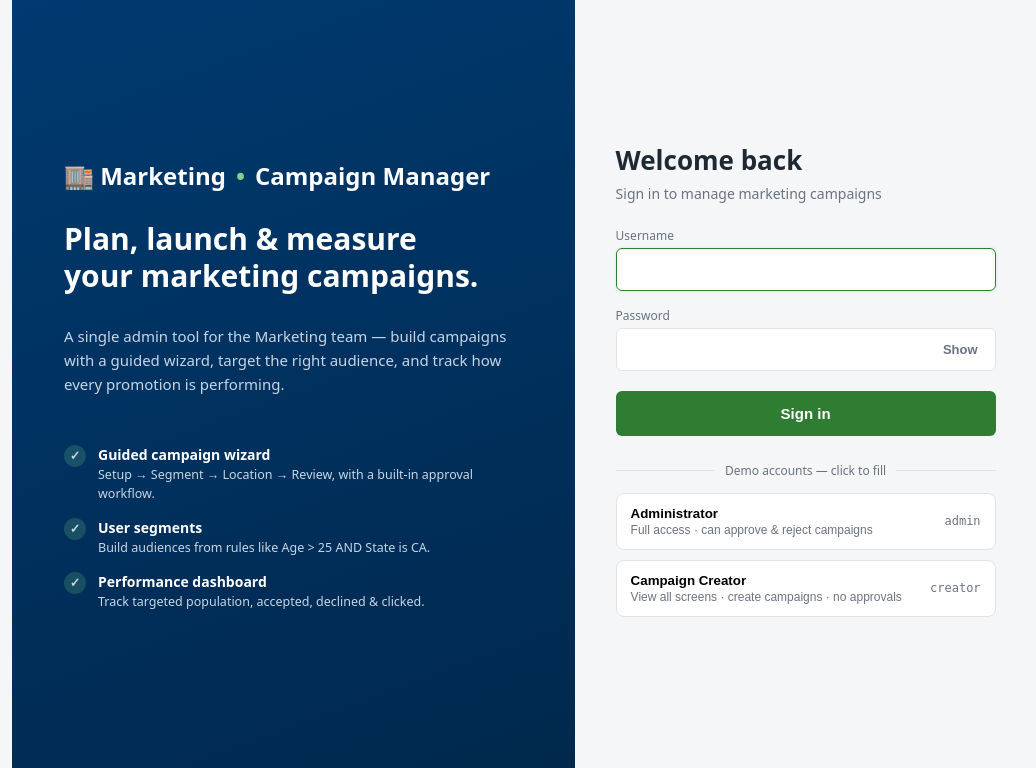
Test: clicking a demo account fills the form and signs in as that role
Note: Click the Administrator demo account to auto-fill credentials.
Click the text "Administrator": (674, 513) [631,506,718,520]
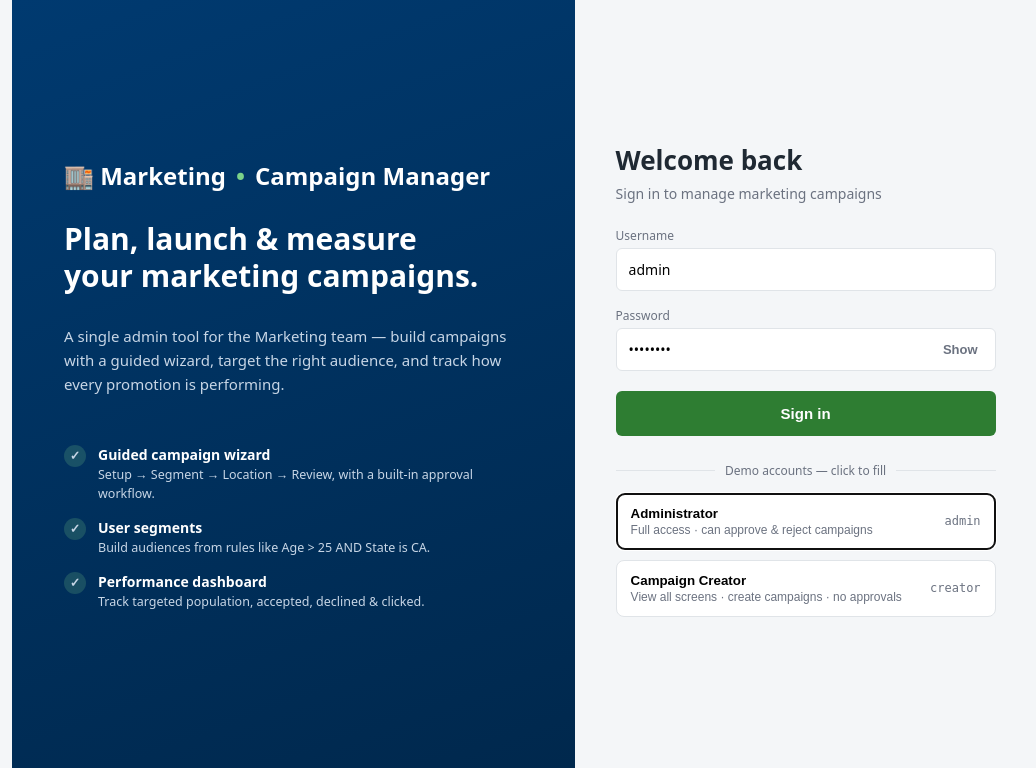
Click the button "Sign in": (806, 413) [616,390,996,436]
(page scrolled)
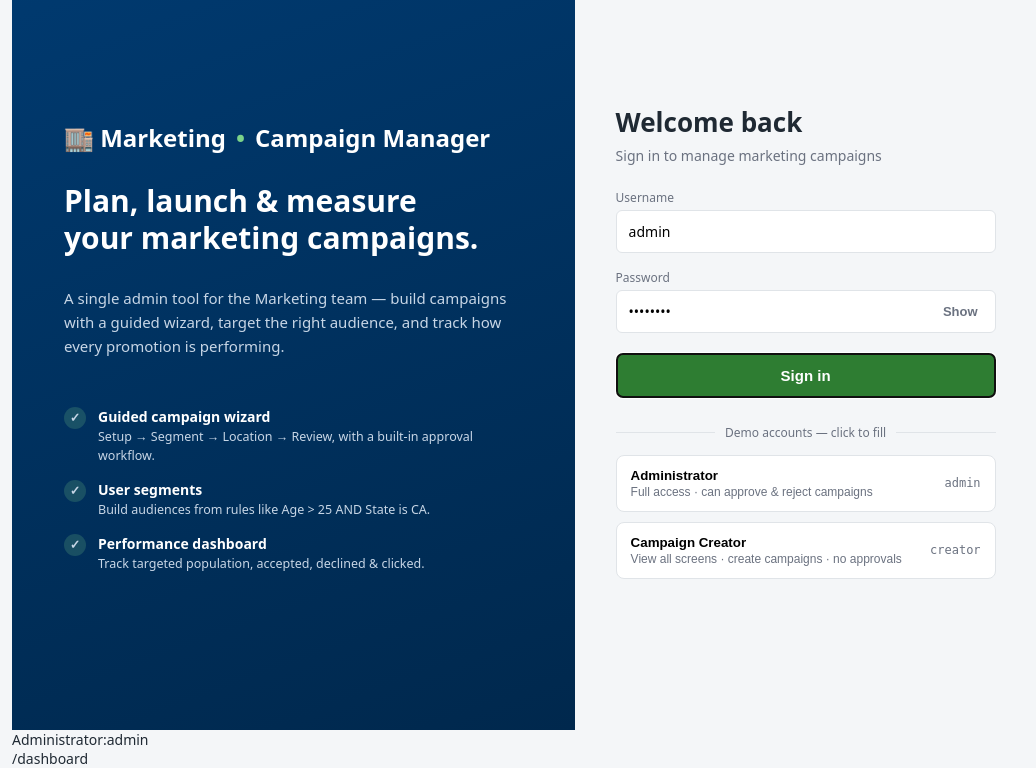
Expected: the text with test id "who" reads "Administrator:admin", [12,730,148,749]
